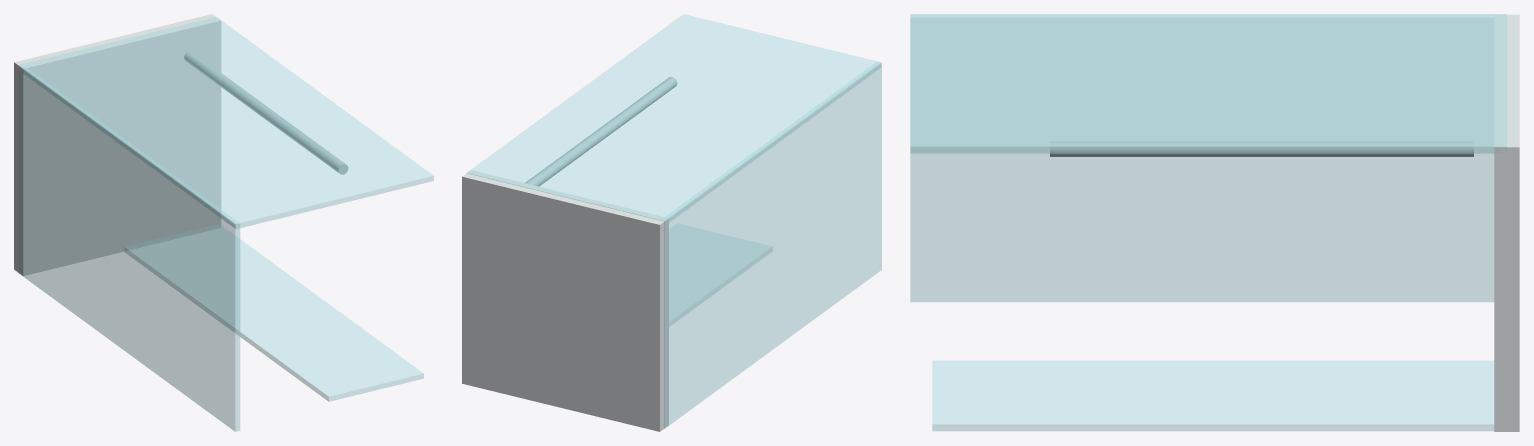
Rendered from shower-stall.glb.
3 views of the same model, side by side, from view 1: azimuth 30°, elevation 25°; view 2: azimuth 150°, elevation 25°; view 3: azimuth 270°, elevation 25° (orthographic). The views are drawn at different scales.
Parts seen in each view (by area): view 1: world; view 2: world; view 3: world.
Part boxes in pixels (x1,y1,x2,y2): world: (14, 14, 433, 431); world: (462, 14, 881, 431); world: (910, 14, 1519, 431).
Size of the model in its own units: 1 by 1 by 1.94.
